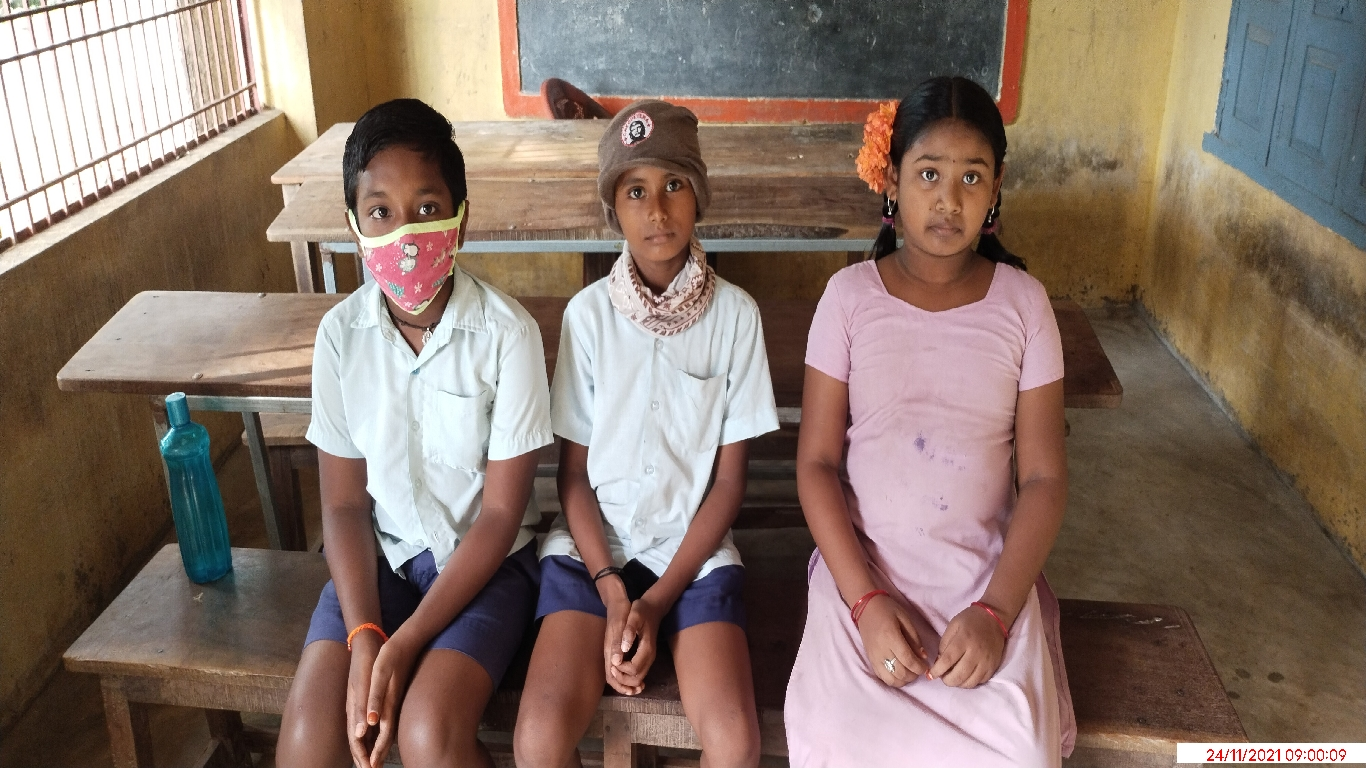student: (782, 75, 1088, 688), (559, 87, 733, 654), (315, 112, 493, 519)
